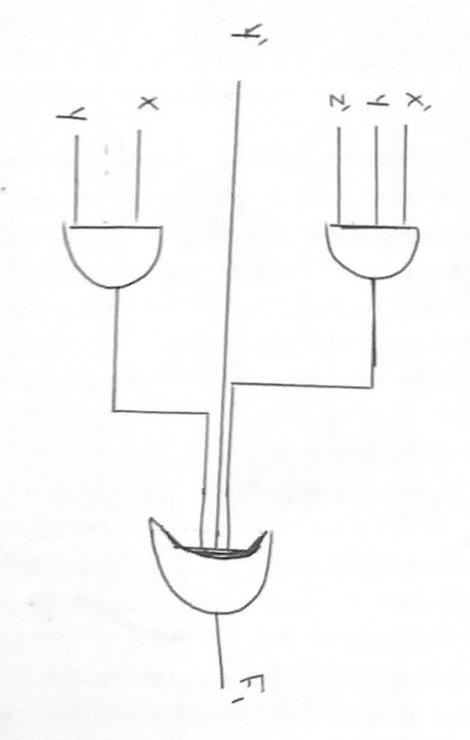AND: (46, 207, 173, 296), (316, 203, 432, 293)
OR: (144, 510, 286, 637)
